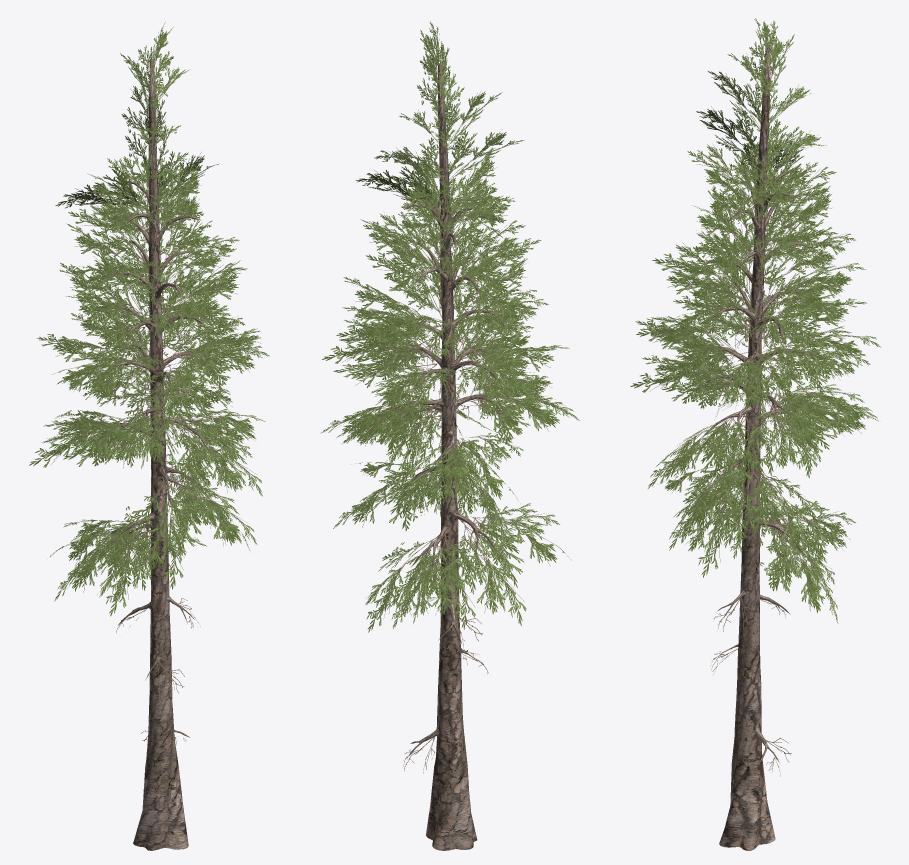
The model's file is spruce.glb.
3 renders of one model, left to right at view 1: azimuth 30°, elevation 25°; view 2: azimuth 150°, elevation 25°; view 3: azimuth 270°, elevation 25°, orthographic. The views are drawn at different scales.
Parts seen in each view (by area): view 1: spruce branch_1, bark08_0, branch06_2; view 2: spruce branch_1, bark08_0, branch06_2; view 3: spruce branch_1, bark08_0, branch06_2.
Boxes of the visible parts, x1,y1,x2,y2 form: spruce branch_1: (29, 22, 269, 616); bark08_0: (101, 59, 212, 850); branch06_2: (95, 311, 215, 744); spruce branch_1: (320, 21, 579, 632); bark08_0: (389, 64, 504, 850); branch06_2: (397, 315, 516, 773); spruce branch_1: (630, 18, 880, 623); bark08_0: (702, 45, 815, 850); branch06_2: (703, 303, 809, 776).
Bounding box in the file's own units: 3.22 × 10.52 × 3.16.
Materials: 3 (3 with a texture image).
